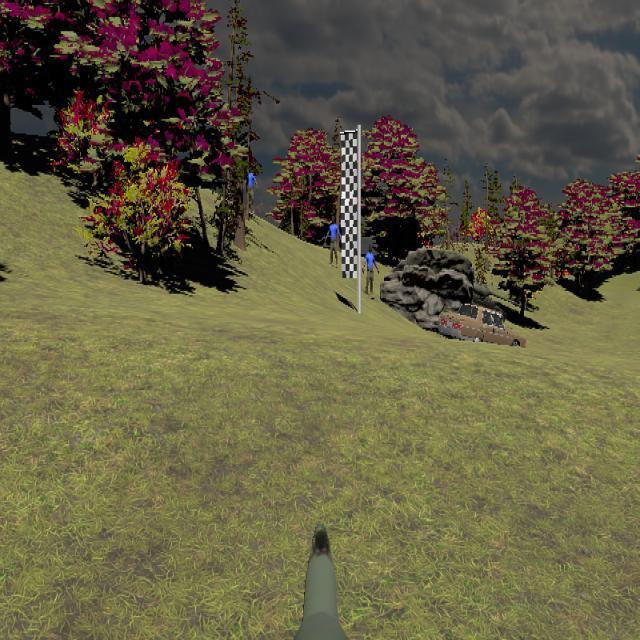Human: (325, 216, 342, 267), (363, 244, 379, 298), (325, 216, 341, 267)
car: (438, 303, 526, 352)
